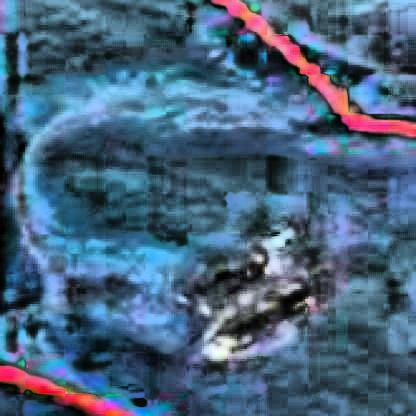sheen: (14, 76, 306, 356)
